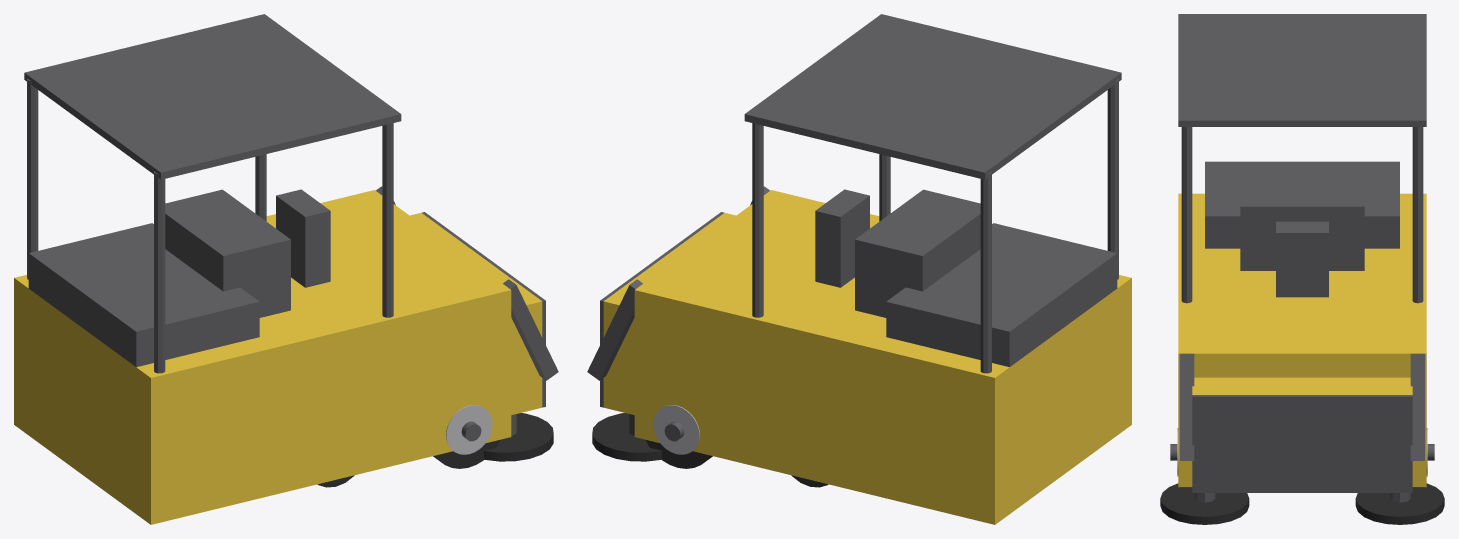
The model's file is SM_Sweeper.fbx.
3 renders of one model, left to right at view 1: azimuth 30°, elevation 25°; view 2: azimuth 150°, elevation 25°; view 3: azimuth 270°, elevation 25°, orthographic. The views are drawn at different scales.
Parts seen in each view (by area): view 1: SW_Chassis, SW_Hopper, SW_Wheel_FR, SW_SideBrush_R, SW_HopperArm; view 2: SW_Chassis, SW_Hopper, SW_Wheel_FL, SW_SideBrush_L, SW_HopperArm; view 3: SW_Chassis, SW_Hopper, SW_HopperArm, SW_SideBrush_L, SW_SideBrush_R.
Part boxes in pixels (x1,y1,x2,y2): SW_Chassis: [14, 14, 511, 524]; SW_Hopper: [410, 212, 545, 414]; SW_Wheel_FR: [433, 405, 499, 468]; SW_SideBrush_R: [484, 413, 553, 461]; SW_HopperArm: [375, 186, 558, 380]; SW_Chassis: [634, 14, 1131, 524]; SW_Hopper: [600, 212, 735, 414]; SW_Wheel_FL: [646, 405, 712, 468]; SW_SideBrush_L: [592, 413, 661, 461]; SW_HopperArm: [587, 186, 770, 380]; SW_Chassis: [1178, 14, 1426, 487]; SW_Hopper: [1192, 377, 1412, 492]; SW_HopperArm: [1180, 353, 1424, 460]; SW_SideBrush_L: [1355, 483, 1444, 524]; SW_SideBrush_R: [1160, 483, 1249, 524].
Size of the model in its own units: 243 by 210 by 160.
